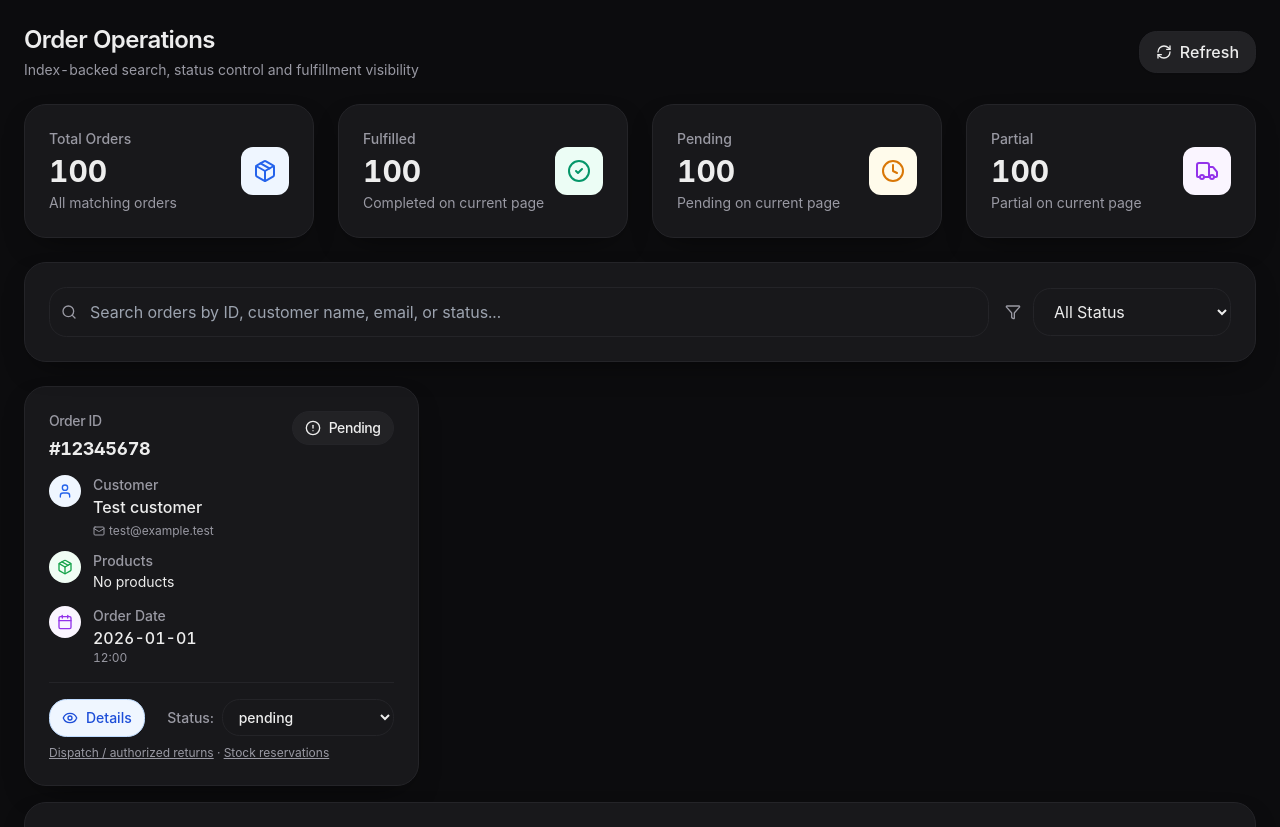
Test: order status uses the configured base or /api and exposes failure (https://example.test/api/)
Expected: the text "#12345678" is shown, x1=49 y1=435 x2=150 y2=463
Expected: the text "Completed on current page" is shown, x1=363 y1=193 x2=544 y2=213
Select "pending fulfillment" in the dropdown named "Status for order 12345678": (308, 718) x1=222 y1=699 x2=394 y2=736
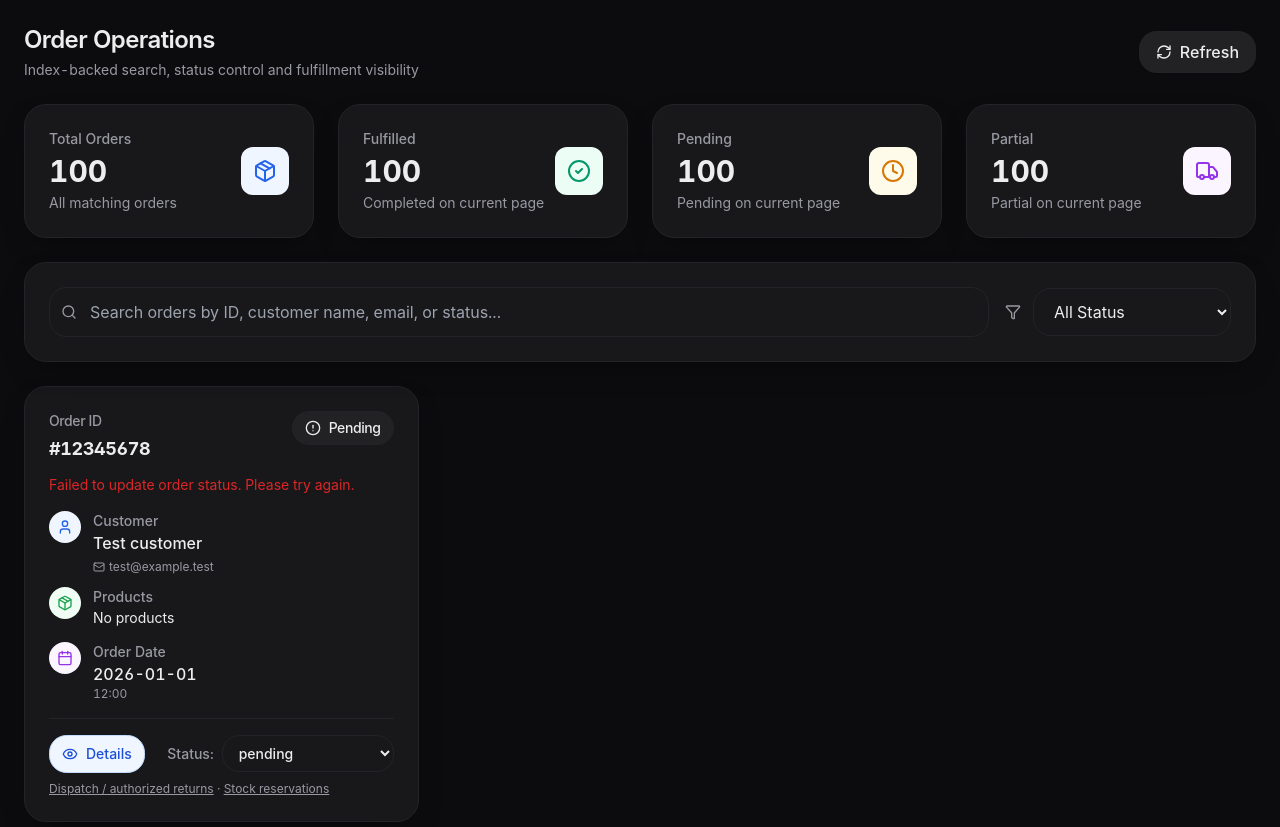
Expected: the message shows "Failed to update order status", x1=49 y1=476 x2=354 y2=493
